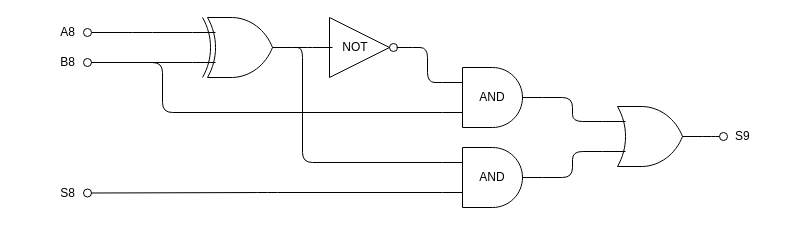
Some shapes in this 810 by 225 pixel diagram are drawn without their labels. The shapes that lost their labels are listed below. From the top down, each one's centre as x and y in pixels, then its label:
At (242,47): "XOR".
At (652,136): "OR".
